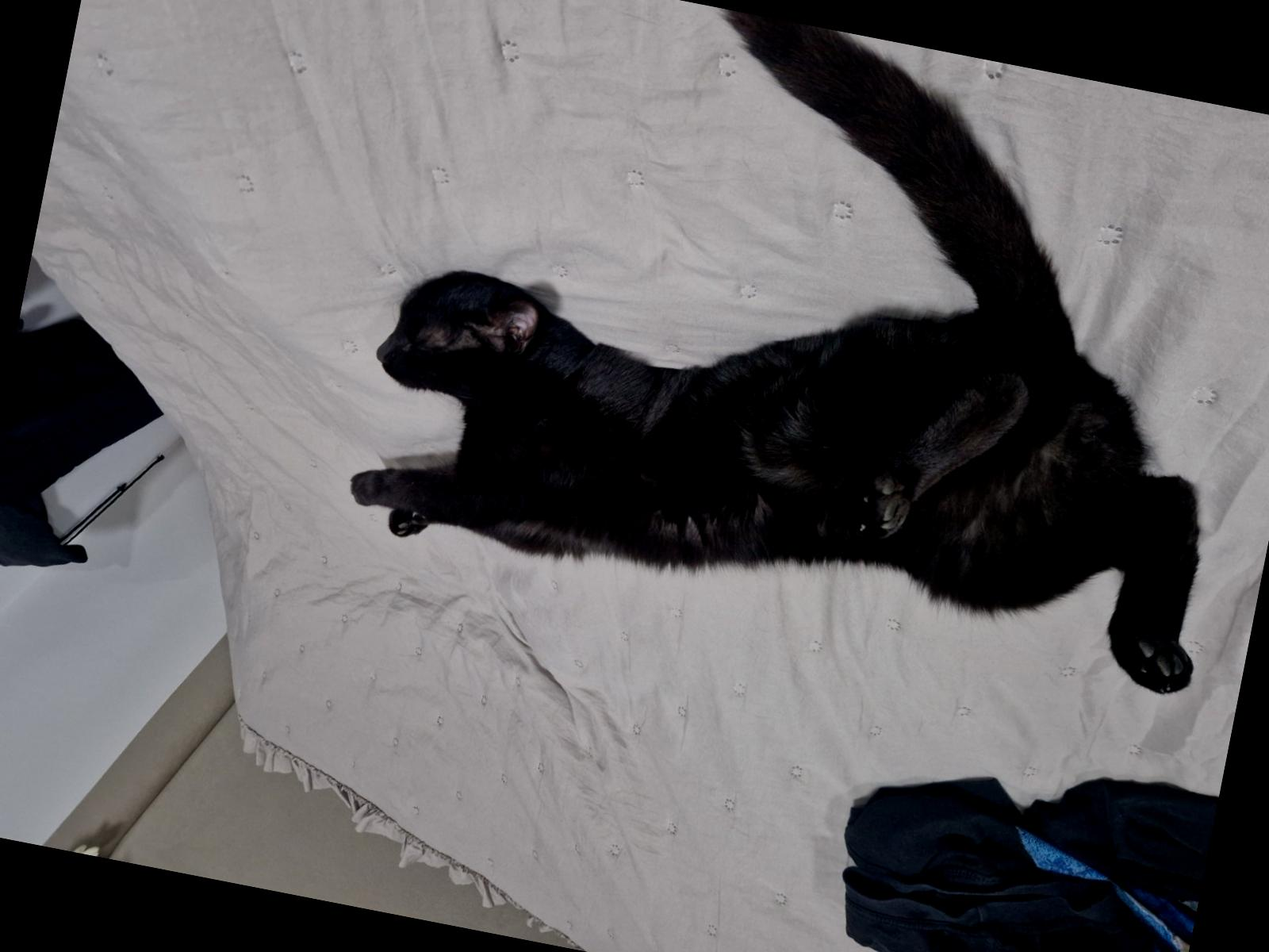macka: (334, 0, 1269, 713)
